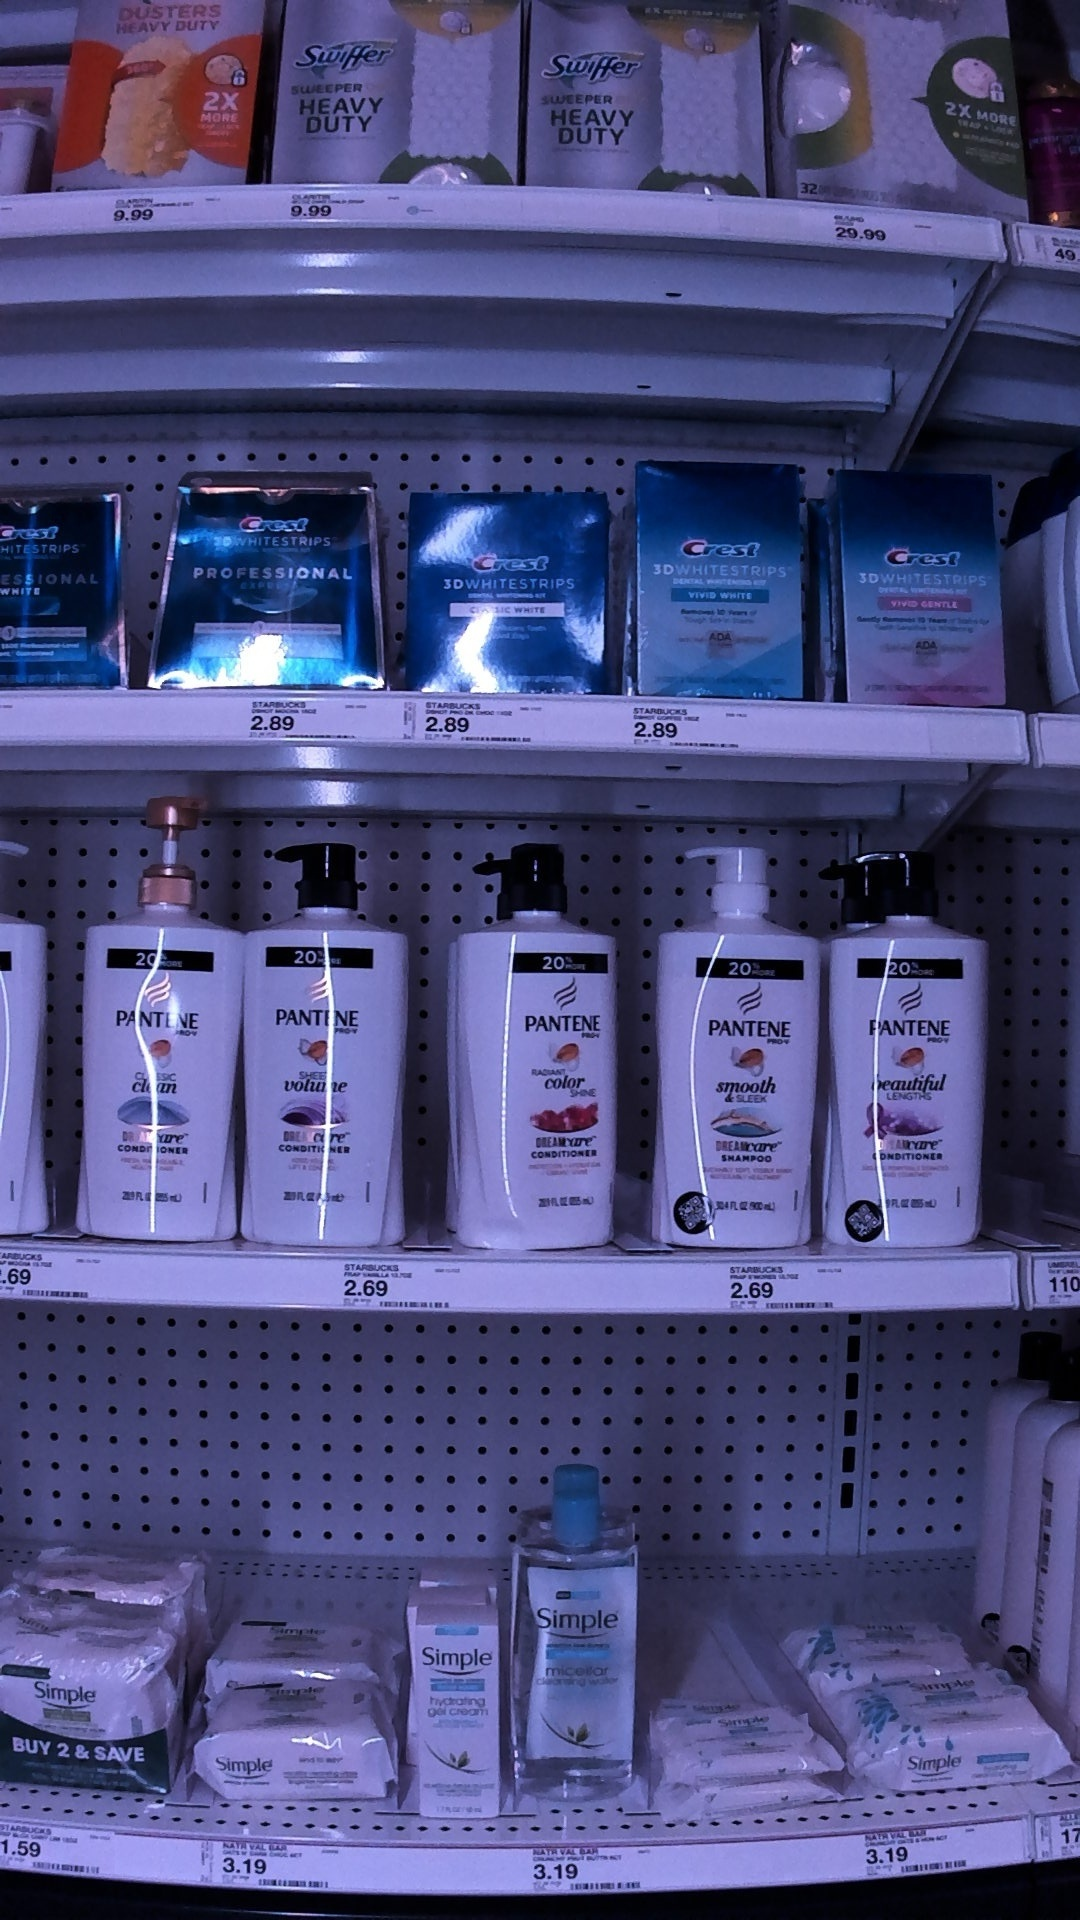ptag: (840, 1829, 982, 1886), (200, 1840, 349, 1894), (331, 1255, 469, 1313), (629, 695, 756, 756), (522, 1842, 649, 1902), (284, 186, 419, 237), (400, 695, 538, 744), (713, 1261, 837, 1315), (795, 206, 922, 255), (244, 700, 367, 749), (109, 179, 195, 235), (1, 1832, 115, 1873)
